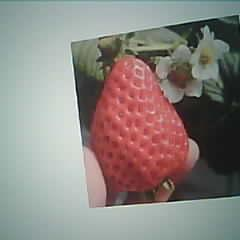straw-ripe: (92, 57, 188, 191)
